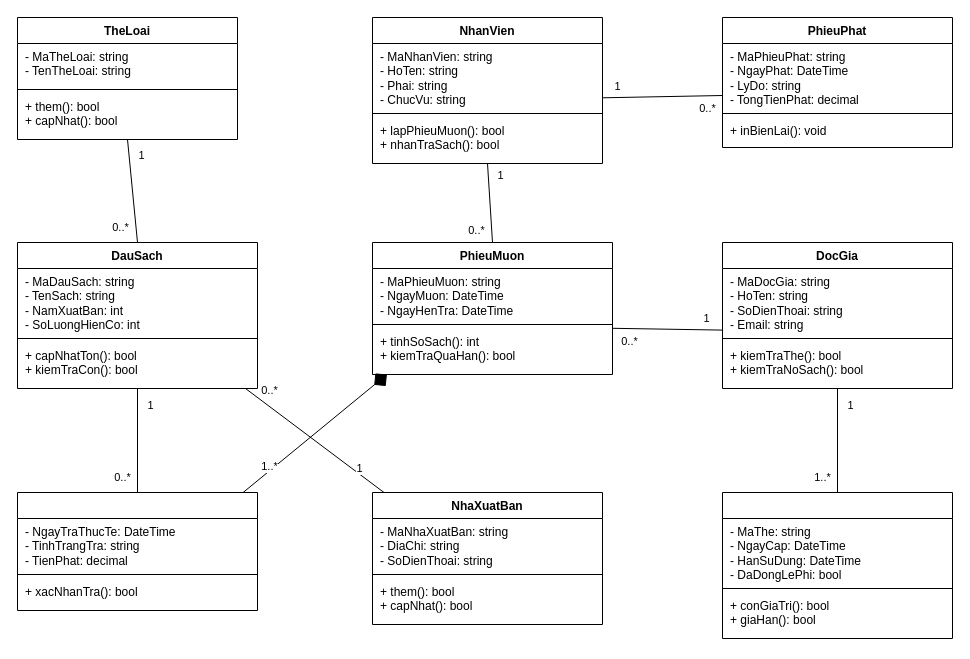
Some shapes in this 970 by 659 pixel diagram are drawn without their labels. The shapes that lost their labels are listed below. From the top down, each one's box as (x1, y1, x2, y2) in pixels, then its label:
(16, 492, 258, 610): ChiTietPhieuMuon
(722, 492, 952, 638): TheDocGia
